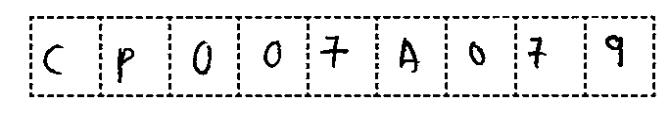0: (184, 32, 220, 82), (459, 35, 493, 74), (257, 35, 287, 72)
7: (318, 32, 351, 72), (523, 34, 553, 71)
9: (598, 28, 631, 74)
A: (392, 36, 430, 77)
C: (38, 42, 70, 78)
P: (107, 40, 139, 87)
